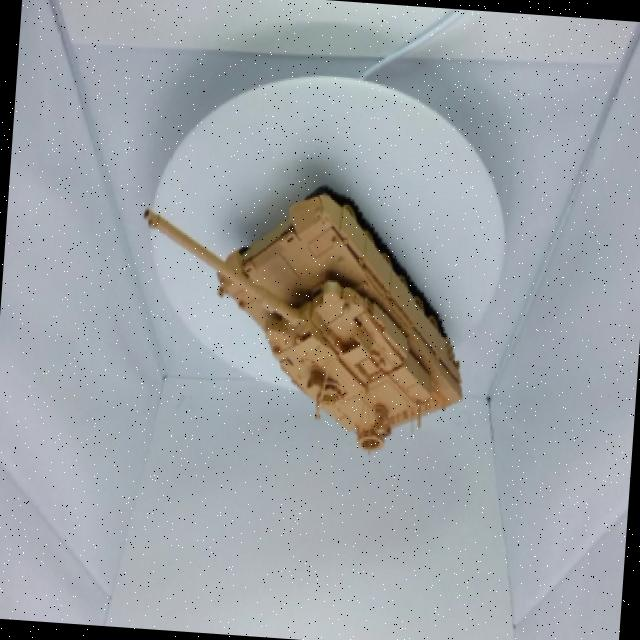korea tank: (107, 146, 496, 481)
